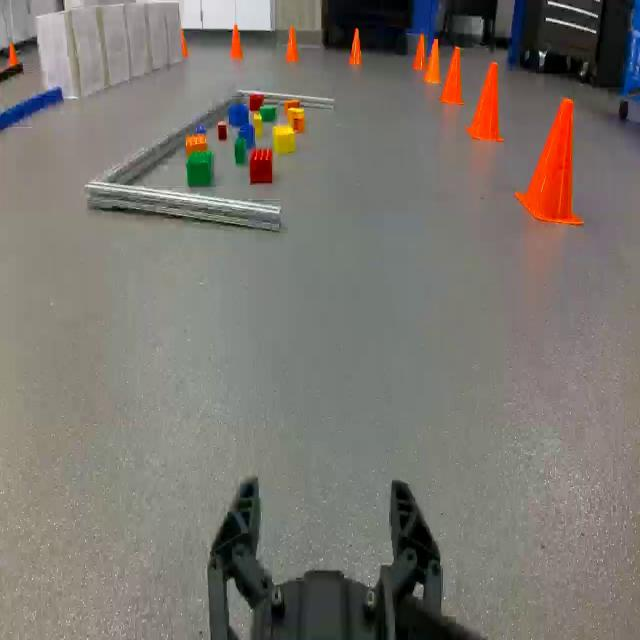block: (272, 124, 294, 154), (251, 113, 262, 138)
blue: (229, 104, 248, 126)
cone: (520, 96, 584, 231), (467, 60, 506, 143), (438, 44, 467, 106), (425, 37, 443, 84), (4, 41, 22, 86), (414, 35, 432, 75), (282, 26, 299, 66), (228, 22, 244, 64), (346, 28, 362, 69), (411, 34, 426, 73)
green: (185, 148, 213, 188), (234, 133, 246, 168), (262, 106, 276, 120)
metal barrier: (87, 85, 338, 236)
orange: (184, 136, 210, 173), (290, 105, 306, 134), (288, 97, 302, 116)
red goal: (250, 147, 272, 184), (249, 91, 264, 110), (217, 119, 229, 141)
river: (0, 83, 69, 154)
storage cube: (94, 2, 188, 87), (32, 2, 110, 101)
